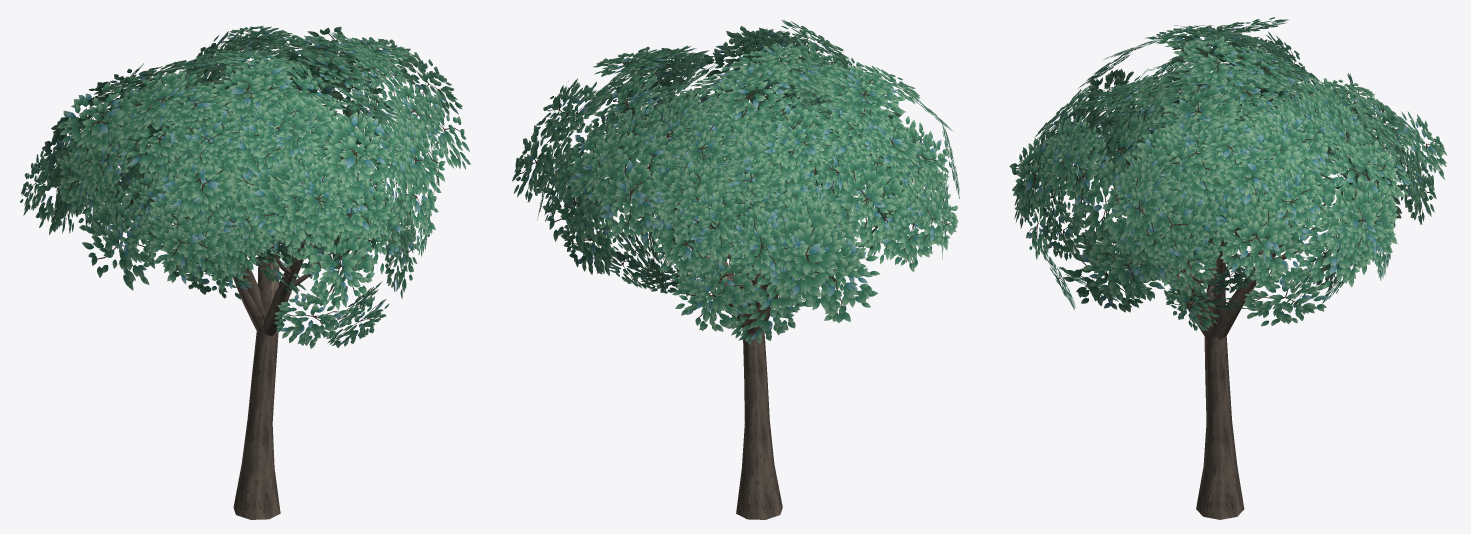
File: Tree_Broad.glb
3 views of the same model, side by side, from view 1: azimuth 30°, elevation 25°; view 2: azimuth 150°, elevation 25°; view 3: azimuth 270°, elevation 25° (orthographic).
Parts seen in each view (by area): view 1: Tree_Broad; view 2: Tree_Broad; view 3: Tree_Broad.
Part boxes in pixels (x1=…): Tree_Broad: x1=20, y1=25, x2=470, y2=519; Tree_Broad: x1=512, y1=20, x2=959, y2=519; Tree_Broad: x1=1009, y1=17, x2=1447, y2=519.
Size of the model in its own units: 22.33 by 22.84 by 20.76.
2 materials, 2 textured.
